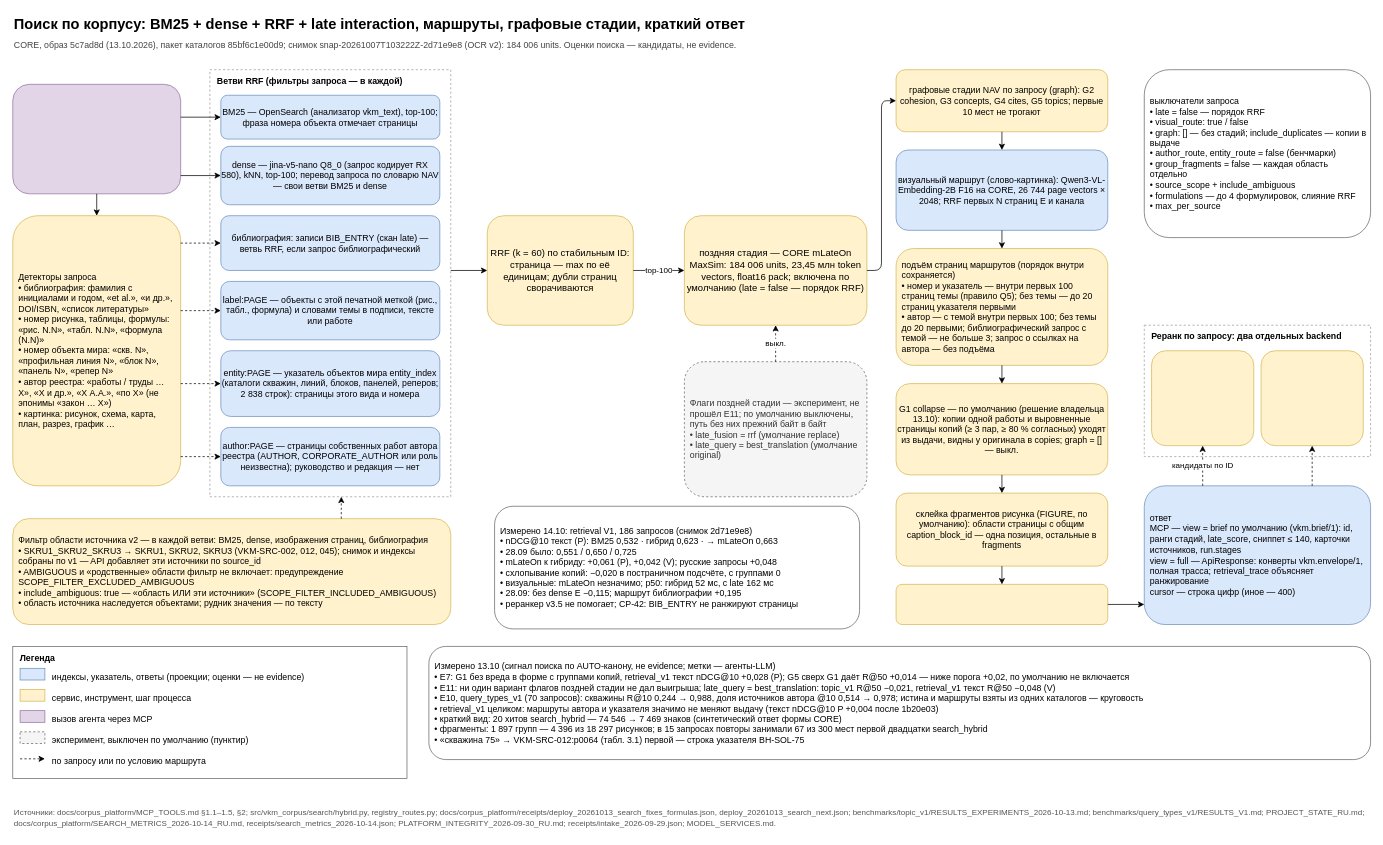
The diagram is 1383 pixels wide and 845 high, and some of its shapes have lost their labels. Each missing label, with the centre of its shape:
"max_per_source (по запросу): лишнее уходит назад, не удаляется" goes at pixel 1001 604.
"rerank_text ≤ 24: CORE mLateOn по сохранённым единицам" goes at pixel 1202 398.
"rerank_visual ≤ 8: EDGE jina-reranker-m0 Q6_K" goes at pixel 1311 398.
"запрос MCP search_hybrid → VKM API POST /v1/search/hybrid" goes at pixel 96 139.
